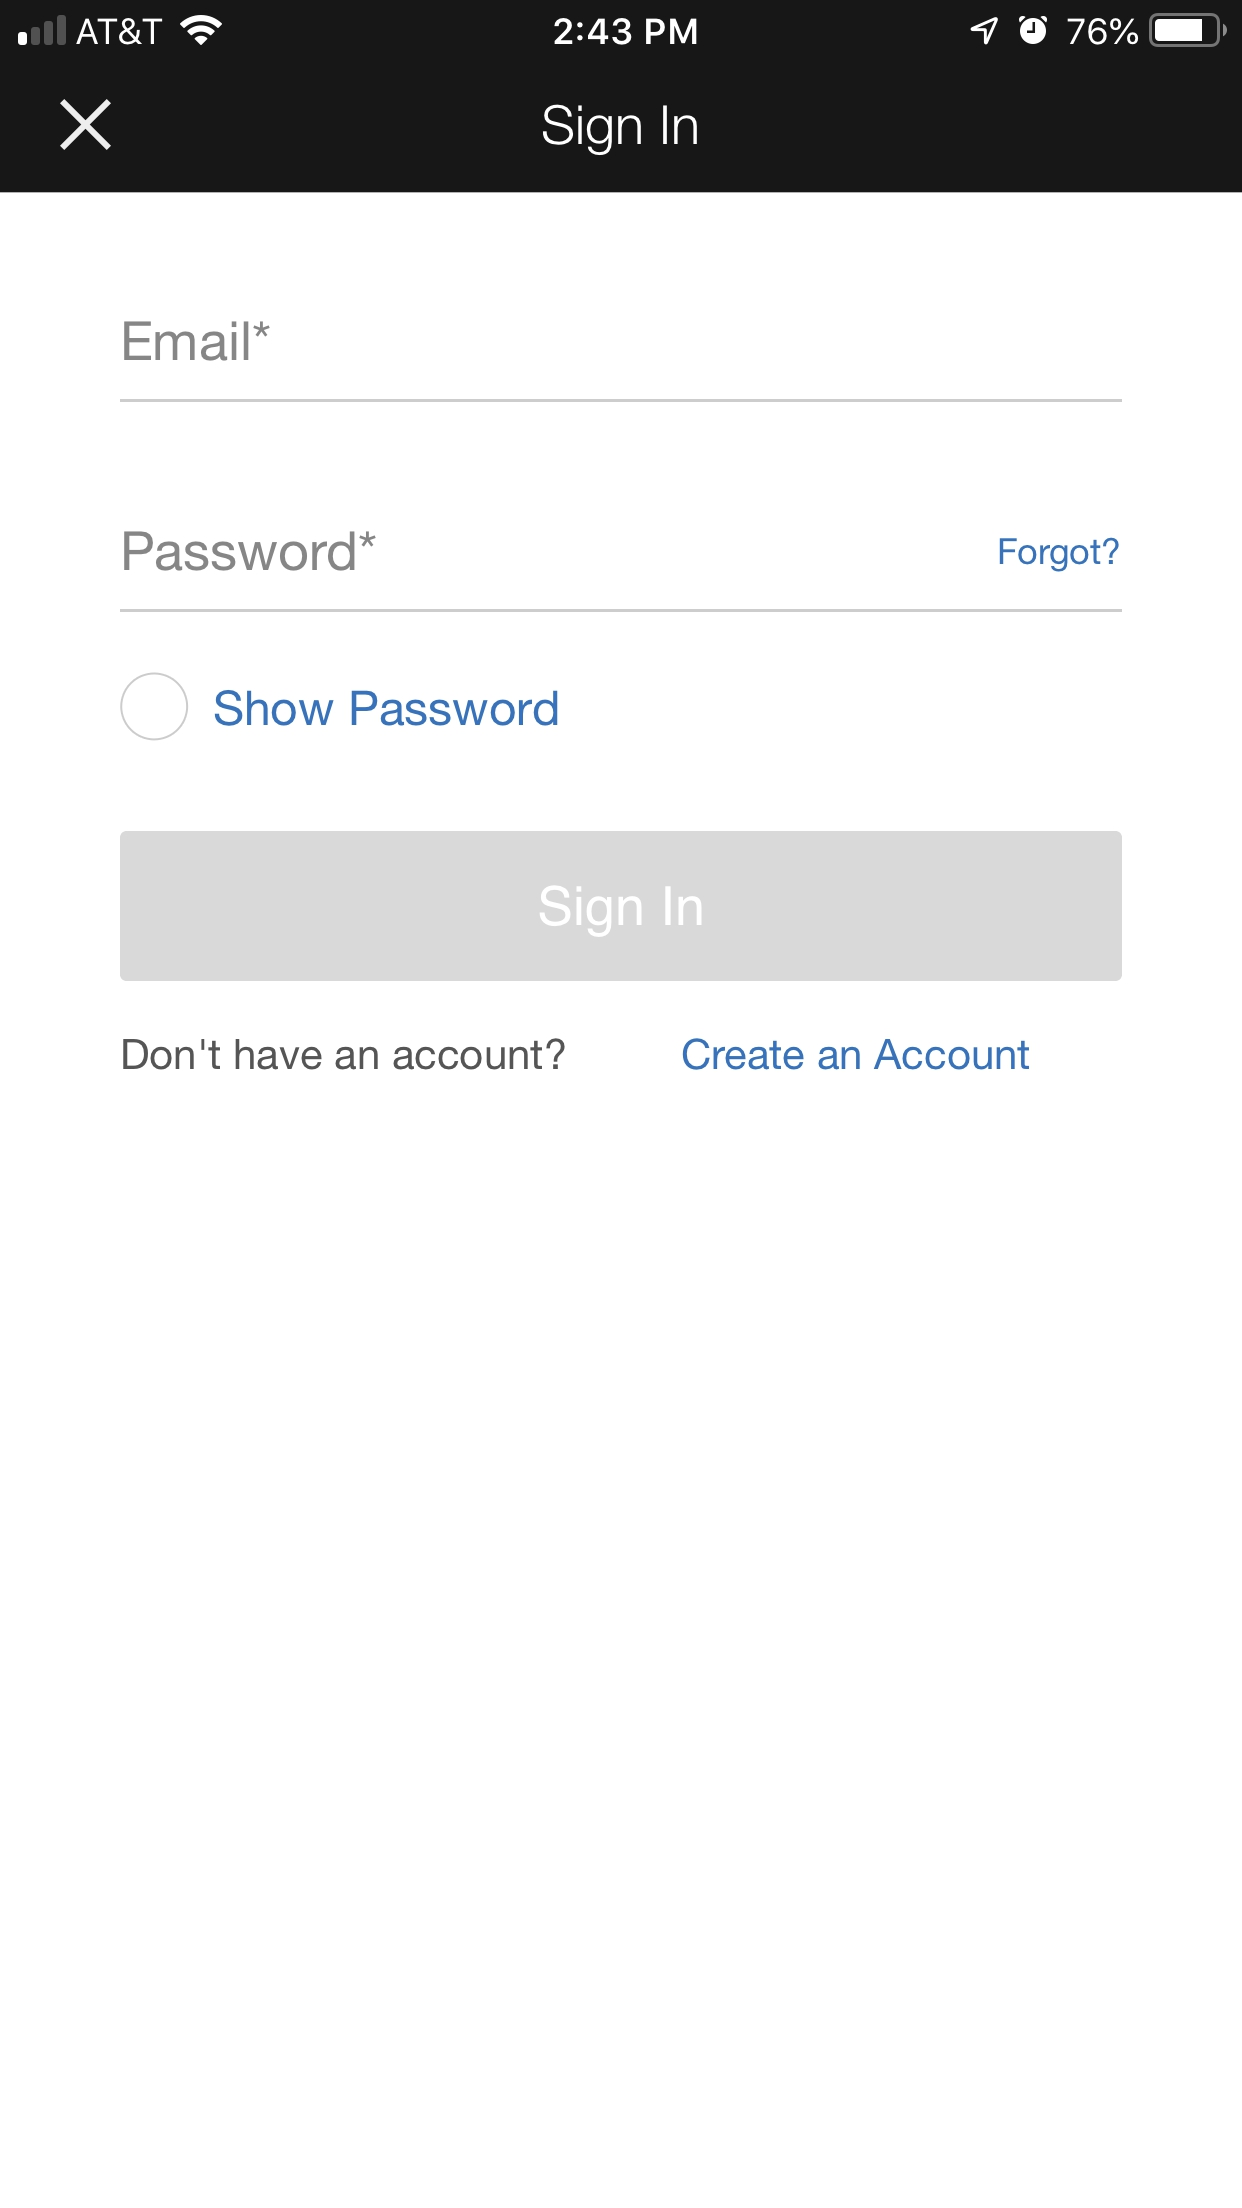CheckedTextView: (120, 672, 560, 743)
EditText: (121, 529, 1124, 613), (121, 321, 1124, 403)
Icon: (61, 99, 114, 152)
Text: (123, 1037, 566, 1071), (215, 690, 560, 728), (682, 1037, 1030, 1071), (124, 529, 376, 572), (541, 105, 698, 158), (124, 321, 271, 362), (999, 537, 1121, 573)
TextButton: (121, 831, 1124, 983)
UpperTaskBar: (2, 2, 1242, 49)
